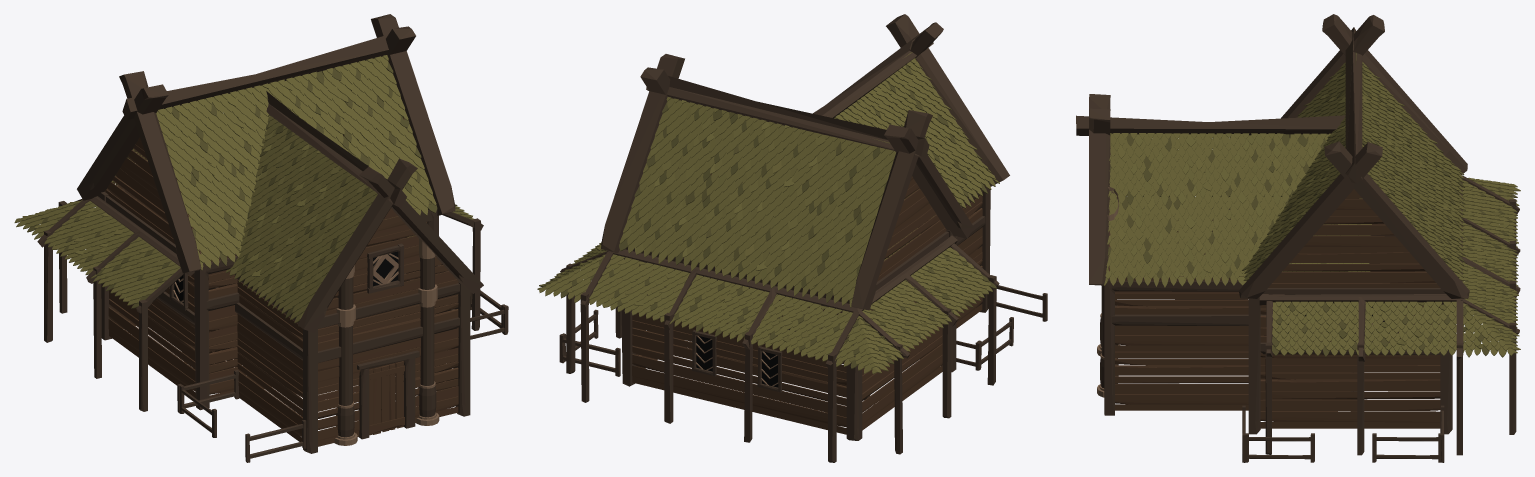
Rendered from SM_building_norse_03.fbx.
3 renders of one model, left to right at view 1: azimuth 30°, elevation 25°; view 2: azimuth 150°, elevation 25°; view 3: azimuth 270°, elevation 25°, orthographic. The views are drawn at different scales.
Visible parts, largest first — view 1: Object407; view 2: Object407; view 3: Object407.
Boxes of the visible parts, x1=… form: Object407: x1=14, y1=14, x2=508, y2=462; Object407: x1=537, y1=14, x2=1047, y2=462; Object407: x1=1076, y1=14, x2=1520, y2=462.
Bounding box in the file's own units: 542 × 422 × 572.
